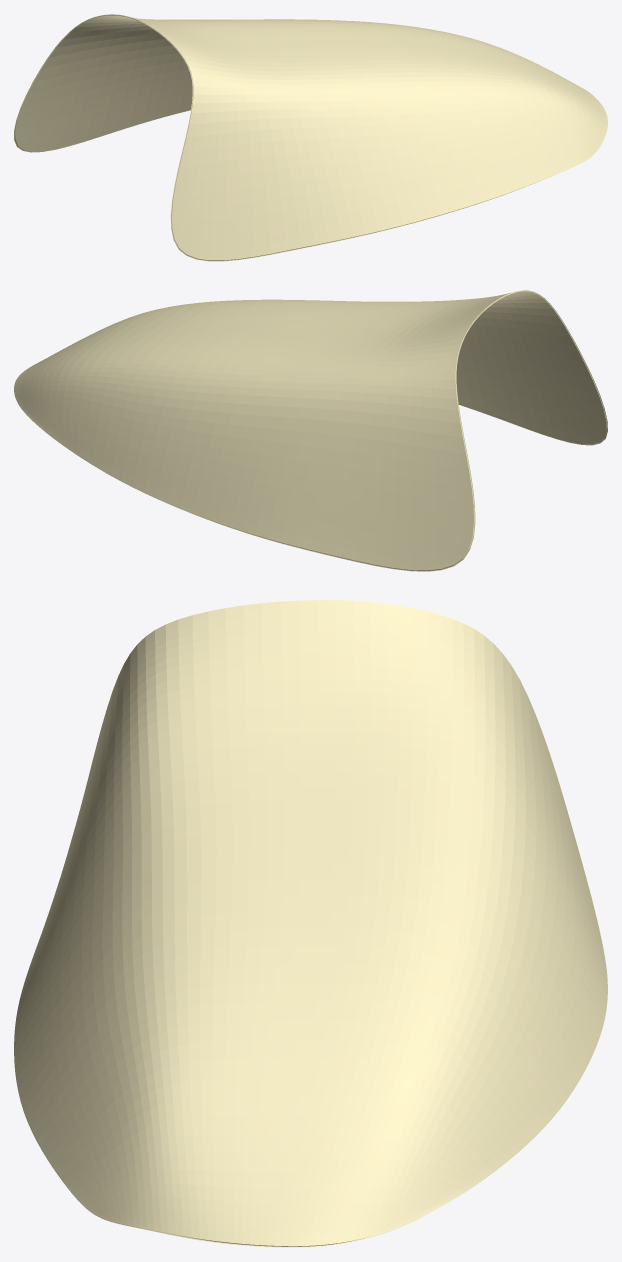
The model's file is frontLeftCream.obj.
3 renders of one model, top to bottom at view 1: azimuth 30°, elevation 25°; view 2: azimuth 150°, elevation 25°; view 3: azimuth 270°, elevation 25°, orthographic. The views are drawn at different scales.
Parts seen in each view (by area): view 1: Plane; view 2: Plane; view 3: Plane.
Boxes of the visible parts, left/top/right/bottom form: Plane: left=14, top=14, right=607, bottom=261; Plane: left=14, top=290, right=607, bottom=571; Plane: left=14, top=600, right=607, bottom=1247.
Size of the model in its own units: 14.79 by 5.18 by 9.
Materials: 1 (1 with a texture image).
